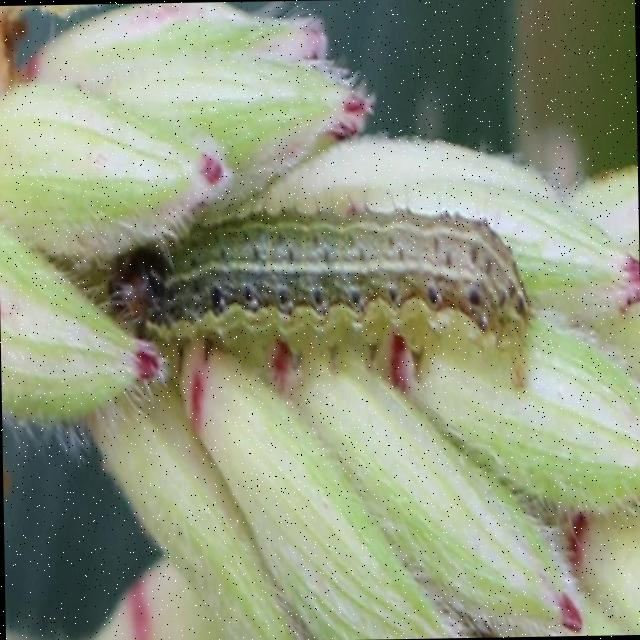worm: (101, 203, 534, 359)
